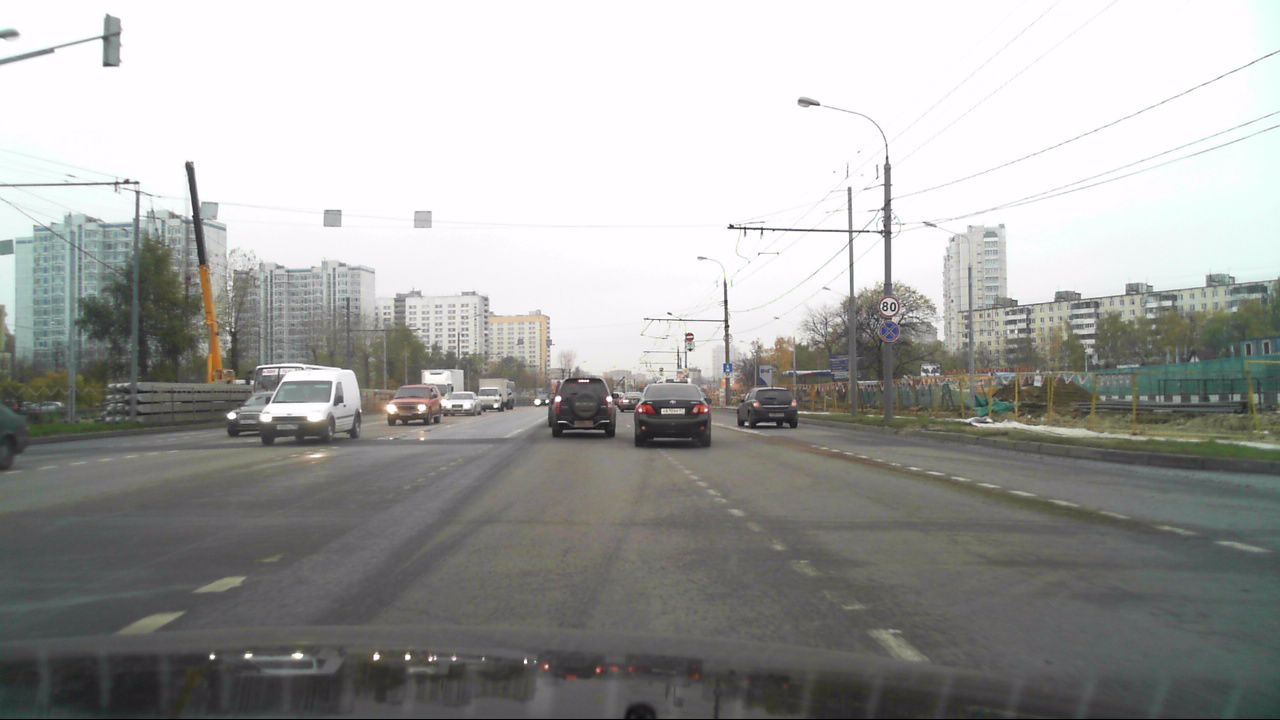No Parking: (877, 320, 899, 343)
